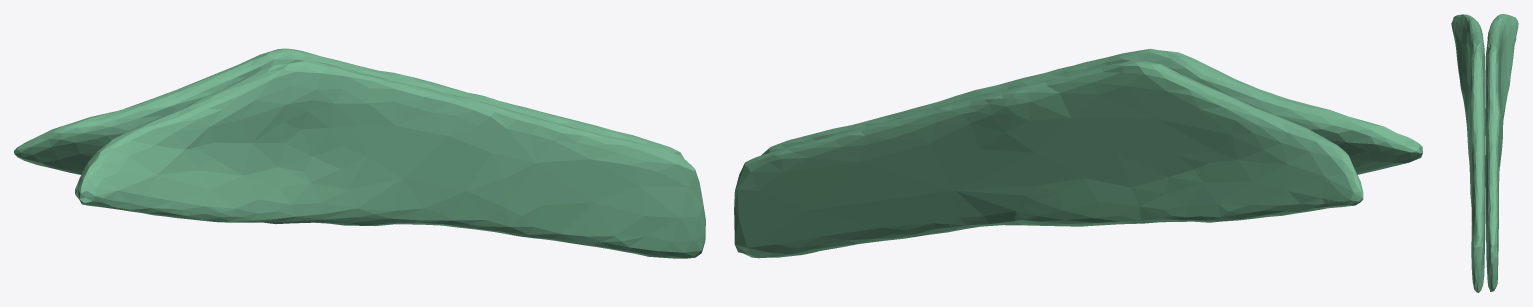
3 renders of one model, left to right at view 1: azimuth 30°, elevation 25°; view 2: azimuth 150°, elevation 25°; view 3: azimuth 270°, elevation 25°, orthographic. The views are drawn at different scales.
Visible parts, largest first — view 1: 935.obj; view 2: 935.obj; view 3: 935.obj.
Boxes of the visible parts, <box> form: 935.obj: <box>14,48,705,258</box>; 935.obj: <box>734,48,1422,258</box>; 935.obj: <box>1451,14,1518,292</box>.
Size of the model in its own units: 3457 by 1487 by 617.
